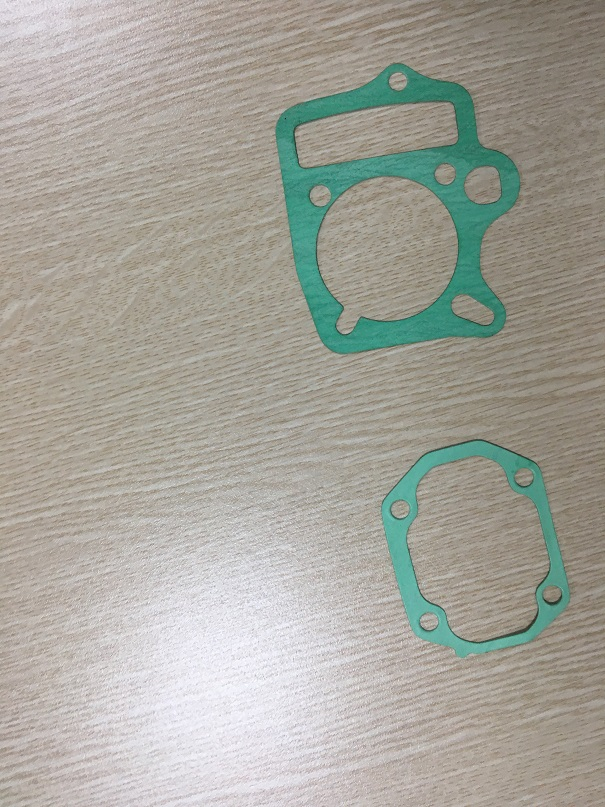type2: (374, 432, 576, 660)
type4: (261, 58, 532, 366)
